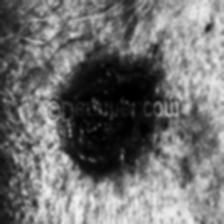Potentially Malignant Skin Tumors: (58, 121, 158, 177), (66, 57, 162, 100)
